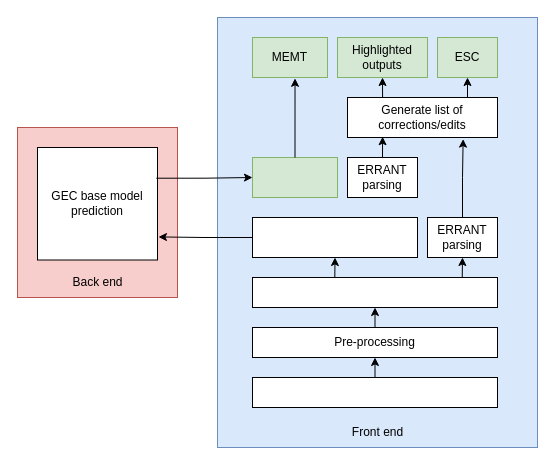
This 555x465 diagram has some shape labels left out. The centre of each missing label's shape, as x and y in pixels:
Corrected sentences: (295,177)
Create mini-batches: (335,237)
Text input: (375,392)
Tokenization: (375,292)
